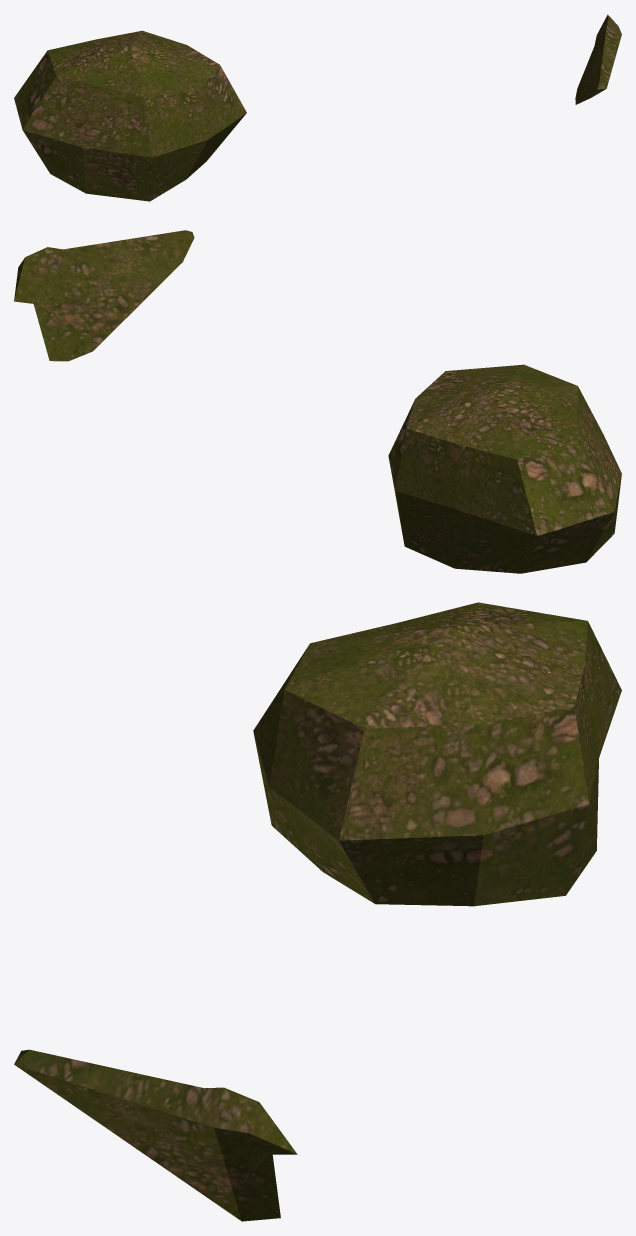
File: kerb_2.glb
3 views of the same model, one above another, from view 1: azimuth 30°, elevation 25°; view 2: azimuth 150°, elevation 25°; view 3: azimuth 270°, elevation 25° (orthographic). The views are drawn at different scales.
Parts seen in each view (by area): view 1: kerb; view 2: kerb; view 3: kerb.
Boxes of the visible parts, x1,y1,x2,y2 form: kerb: (14, 14, 621, 201); kerb: (14, 230, 621, 573); kerb: (14, 602, 621, 1221).
Bounding box in the file's own units: 1.07 × 0.2592 × 0.5444.
1 material, 1 textured.
